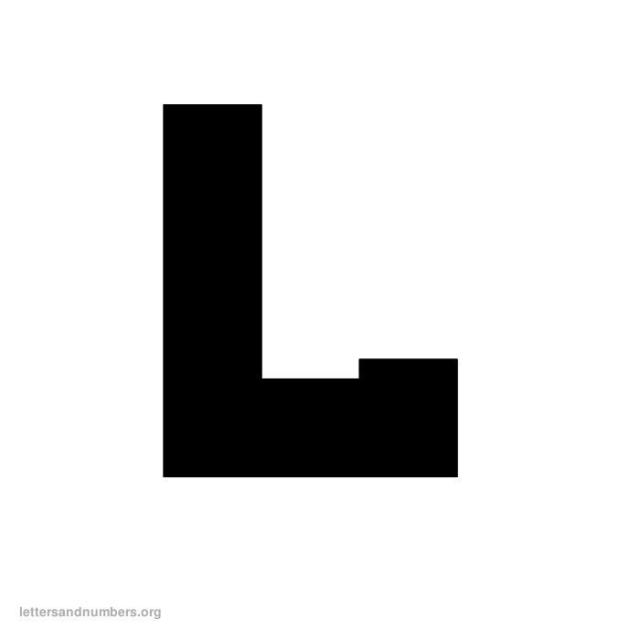L: (116, 80, 476, 516)
